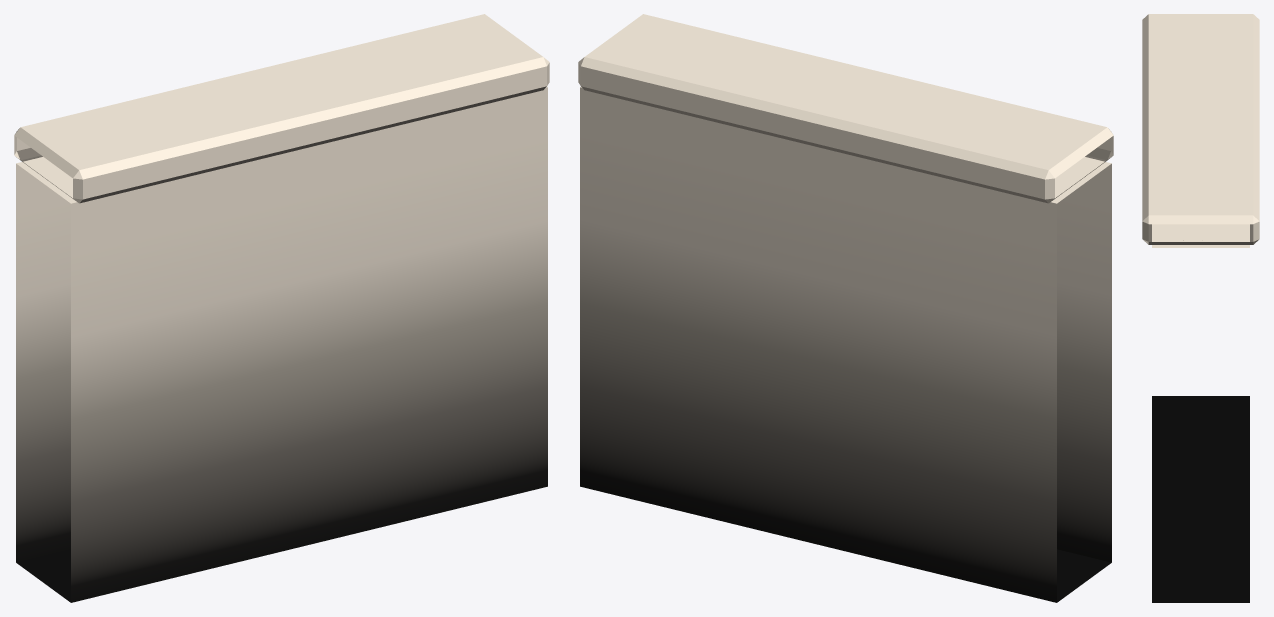
Rendered from SM_VKI_Wall_Board_Plain_150A_Cut.fbx.
3 renders of one model, left to right at view 1: azimuth 30°, elevation 25°; view 2: azimuth 150°, elevation 25°; view 3: azimuth 270°, elevation 25°, orthographic. The views are drawn at different scales.
Visible parts, largest first — view 1: SM_VKI_Wall_Board_Plain_150A_Cut.001; view 2: SM_VKI_Wall_Board_Plain_150A_Cut.001; view 3: SM_VKI_Wall_Board_Plain_150A_Cut.001.
Part boxes in pixels (x1,y1,x2,y2): SM_VKI_Wall_Board_Plain_150A_Cut.001: (14, 14, 549, 602); SM_VKI_Wall_Board_Plain_150A_Cut.001: (578, 14, 1113, 602); SM_VKI_Wall_Board_Plain_150A_Cut.001: (1142, 14, 1259, 602).
Bounding box in the file's own units: 1.5 × 1.3 × 0.36.
